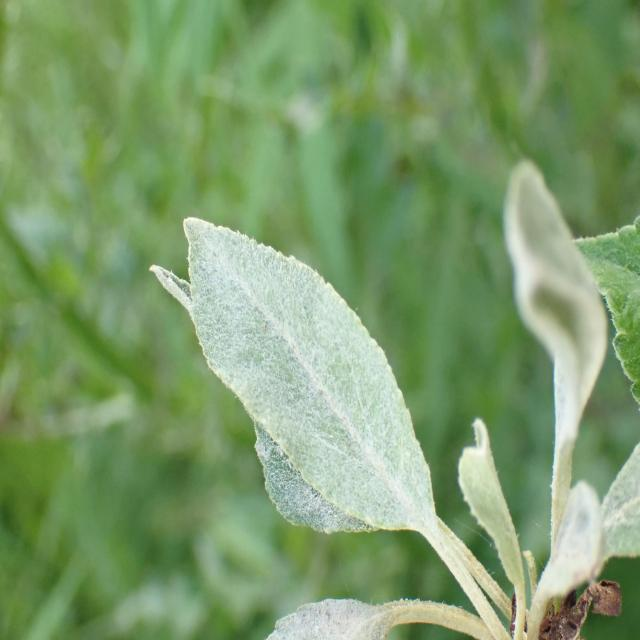Powdery_mildew: (152, 183, 447, 572), (490, 110, 626, 538), (228, 588, 487, 640), (524, 459, 597, 617), (602, 415, 640, 598)
